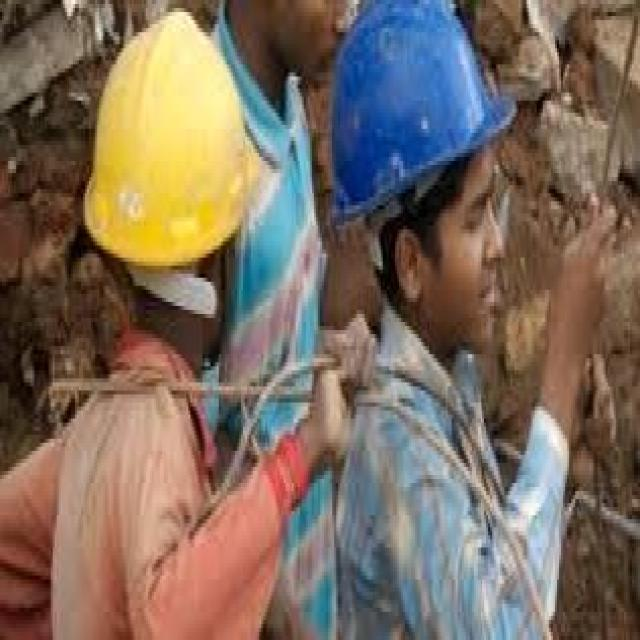Safety-Helmet: (73, 8, 279, 298), (322, 8, 519, 242)
